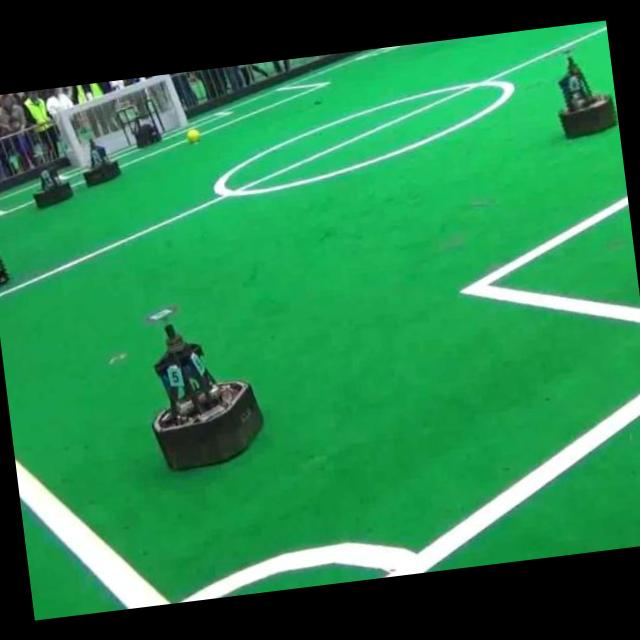ball: (185, 127, 200, 143)
goal: (58, 110, 84, 165), (165, 74, 186, 126)
robot: (152, 325, 261, 469), (558, 56, 615, 136), (115, 97, 164, 147), (33, 165, 73, 208), (83, 138, 119, 185)
